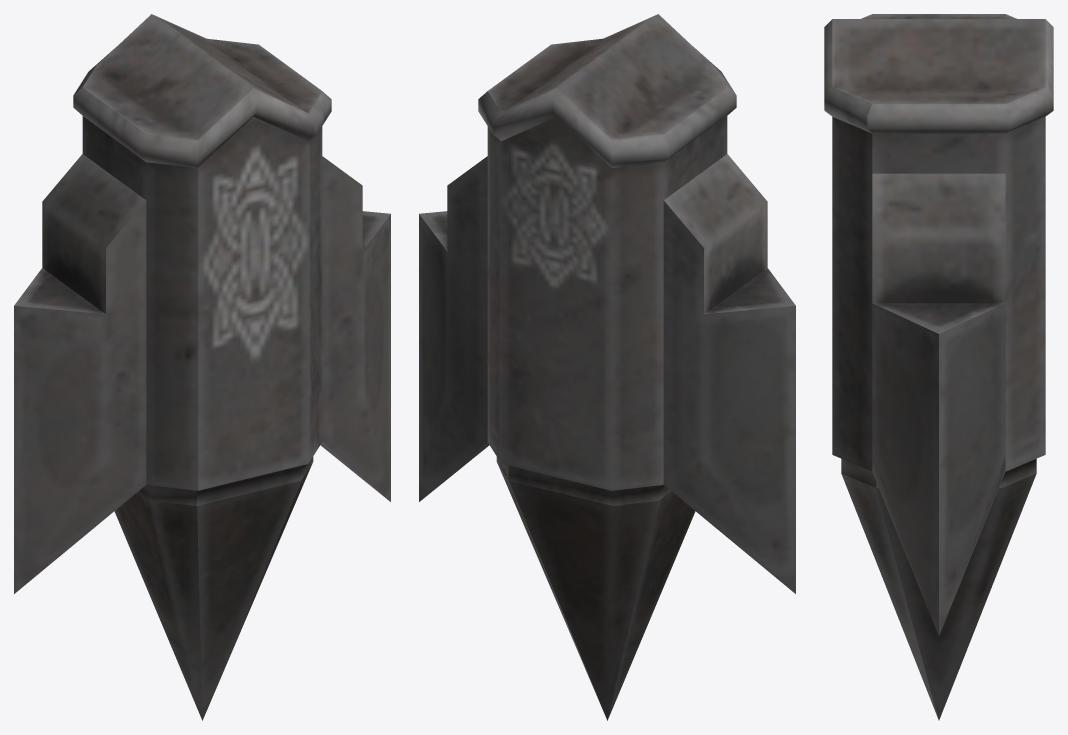
Rendered from sm_dwarf_erebor_axe_pommel_2h_a.fbx.
The picture shows the model from 3 angles, left to right: view 1: azimuth 30°, elevation 25°; view 2: azimuth 150°, elevation 25°; view 3: azimuth 270°, elevation 25°; orthographic projection. The views are drawn at different scales.
Parts seen in each view (by area): view 1: sm_dwarf_erebor_axe_pommel_2h_a; view 2: sm_dwarf_erebor_axe_pommel_2h_a; view 3: sm_dwarf_erebor_axe_pommel_2h_a.
Boxes of the visible parts, x1=… form: sm_dwarf_erebor_axe_pommel_2h_a: x1=14, y1=14, x2=390, y2=720; sm_dwarf_erebor_axe_pommel_2h_a: x1=419, y1=14, x2=795, y2=720; sm_dwarf_erebor_axe_pommel_2h_a: x1=824, y1=14, x2=1053, y2=720.
Bounding box in the file's own units: 0.1035 × 0.0521 × 0.1758.
1 material, 1 textured.
